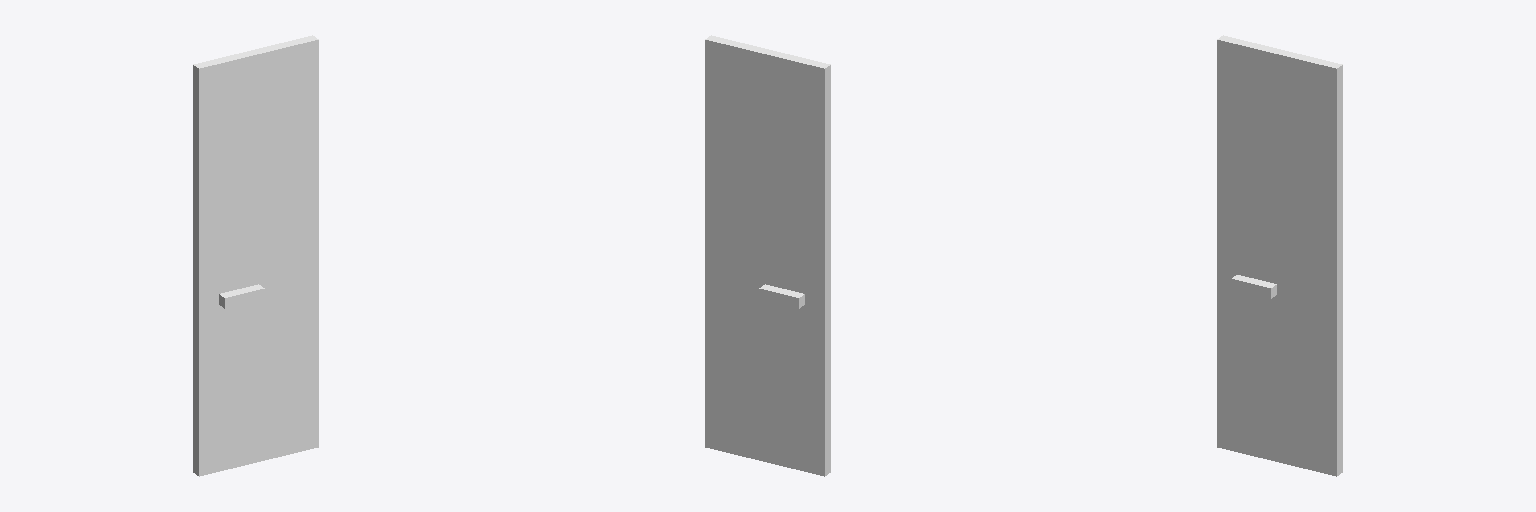
The model's file is WallsSimpleV1DoubleDoorRight.obj.
3 views of the same model, side by side, from view 1: azimuth 30°, elevation 25°; view 2: azimuth 150°, elevation 25°; view 3: azimuth 330°, elevation 25° (orthographic).
Parts seen in each view (by area): view 1: object 1; view 2: object 1; view 3: object 1.
Part boxes in pixels (left/top/right/bottom): object 1: left=193, top=35, right=318, bottom=476; object 1: left=705, top=35, right=830, bottom=476; object 1: left=1217, top=35, right=1342, bottom=476.
Size of the model in its own units: 1.2 by 3.9 by 0.3.